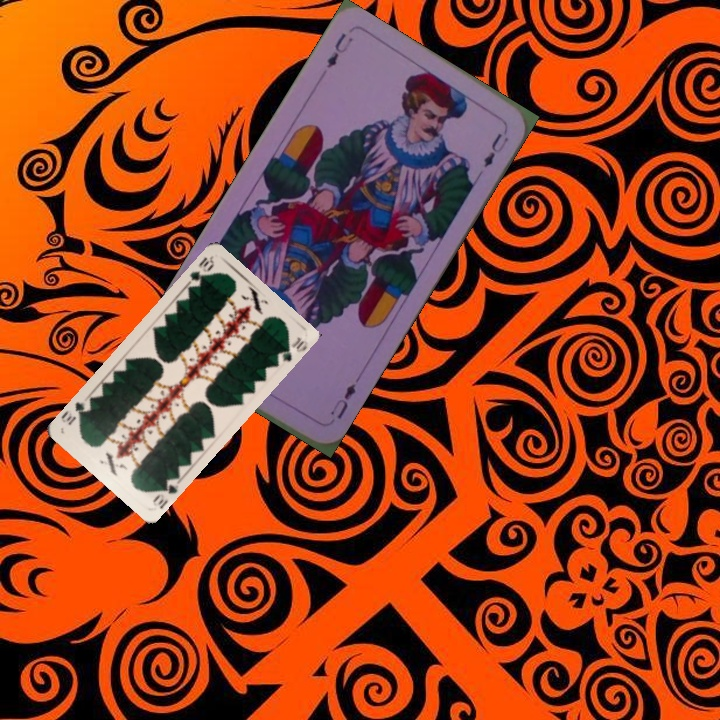EU: (322, 29, 356, 71), (326, 379, 359, 422)
G10: (148, 474, 182, 511), (183, 253, 217, 290)
